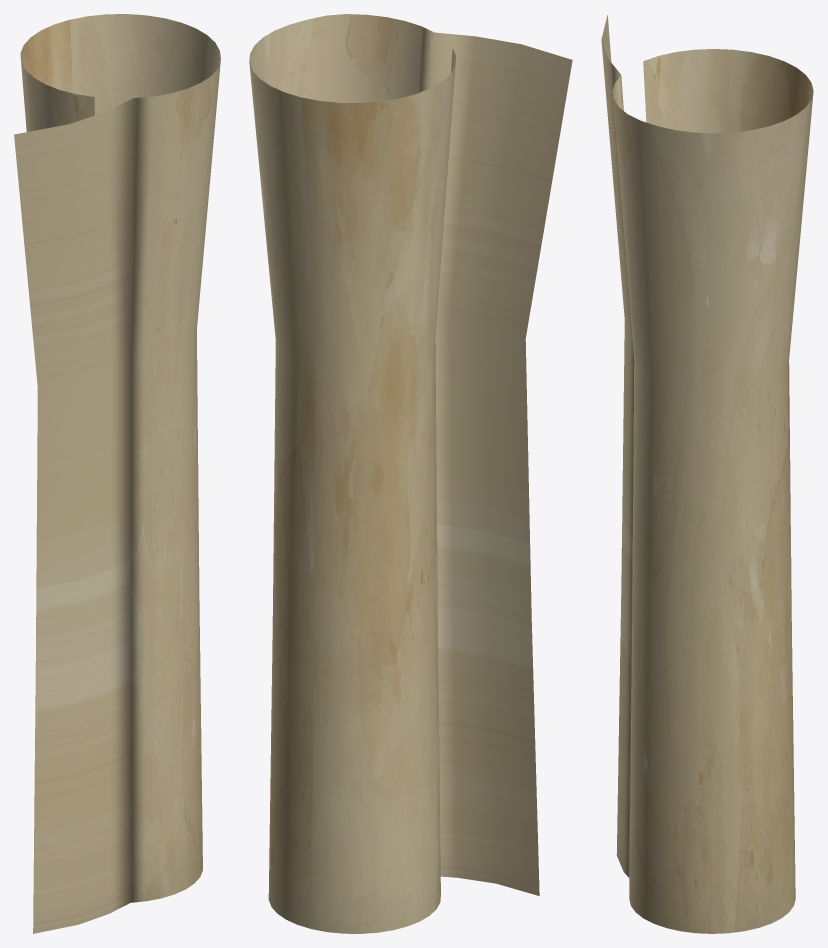
The model's file is map.glb.
3 views of the same model, side by side, from view 1: azimuth 30°, elevation 25°; view 2: azimuth 150°, elevation 25°; view 3: azimuth 270°, elevation 25° (orthographic). The views are drawn at different scales.
Visible parts, largest first — view 1: map; view 2: map; view 3: map.
Part boxes in pixels (x1=…): map: x1=14, y1=14, x2=220, y2=933; map: x1=249, y1=14, x2=572, y2=933; map: x1=601, y1=15, x2=813, y2=933.
Size of the model in its own units: 0.6823 by 2.15 by 0.5105.
1 material, 1 textured.
